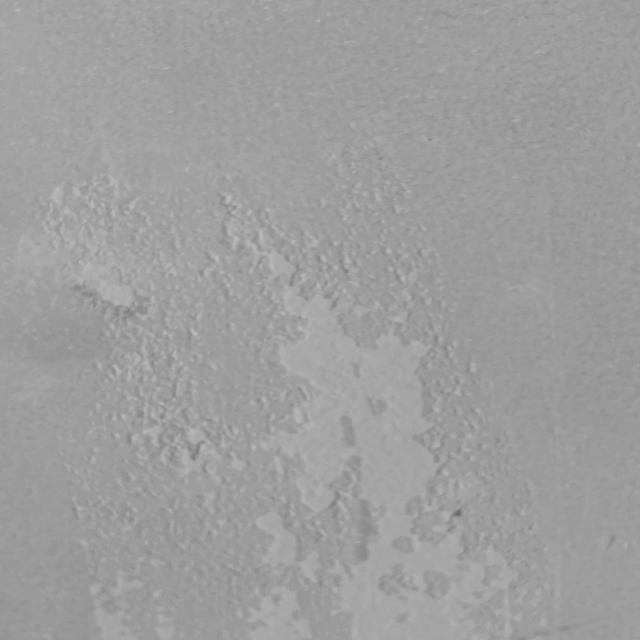rough and patchy surface: (38, 124, 588, 640)
